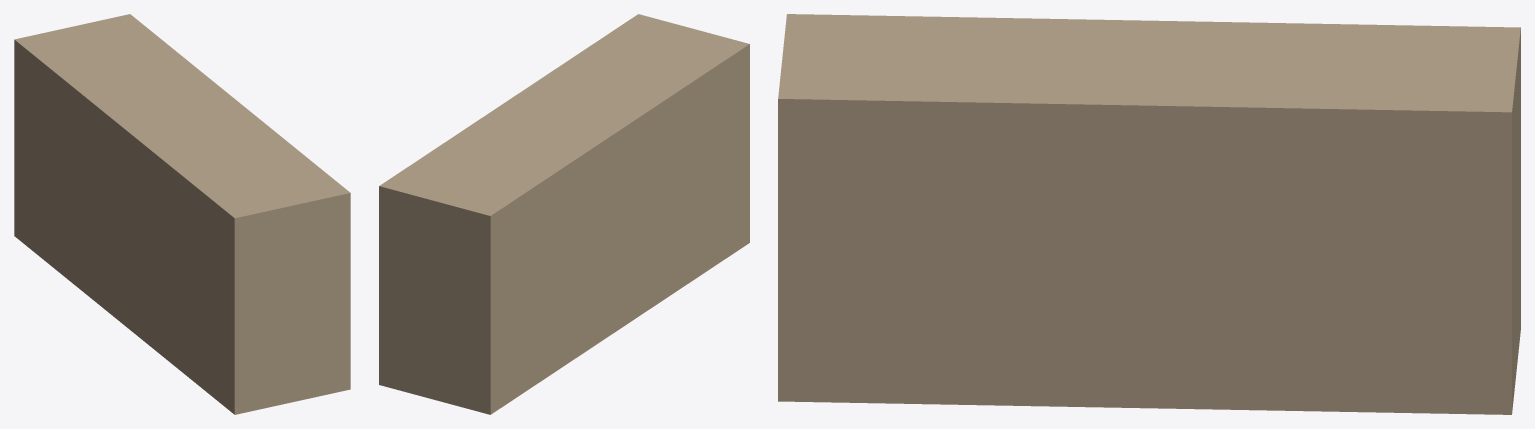
File: bld_106466739.dae
3 views of the same model, side by side, from view 1: azimuth 30°, elevation 25°; view 2: azimuth 150°, elevation 25°; view 3: azimuth 270°, elevation 25° (orthographic). The views are drawn at different scales.
Parts seen in each view (by area): view 1: bld_106466739; view 2: bld_106466739; view 3: bld_106466739.
Part boxes in pixels (left/top/right/bottom): bld_106466739: left=14, top=14, right=350, bottom=414; bld_106466739: left=379, top=14, right=749, bottom=414; bld_106466739: left=778, top=14, right=1520, bottom=414.
Size of the model in its own units: 5.57 by 17.79 by 8.
